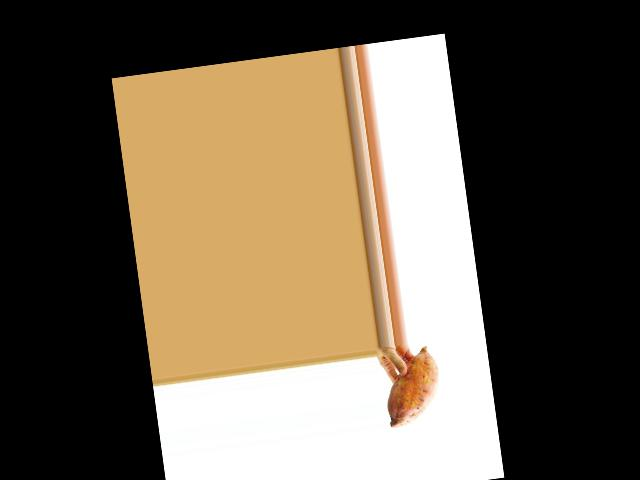sweet_potato: (378, 347, 450, 430)
